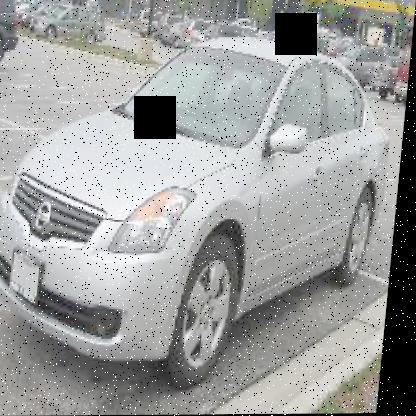not_emergency: (0, 37, 412, 353)
